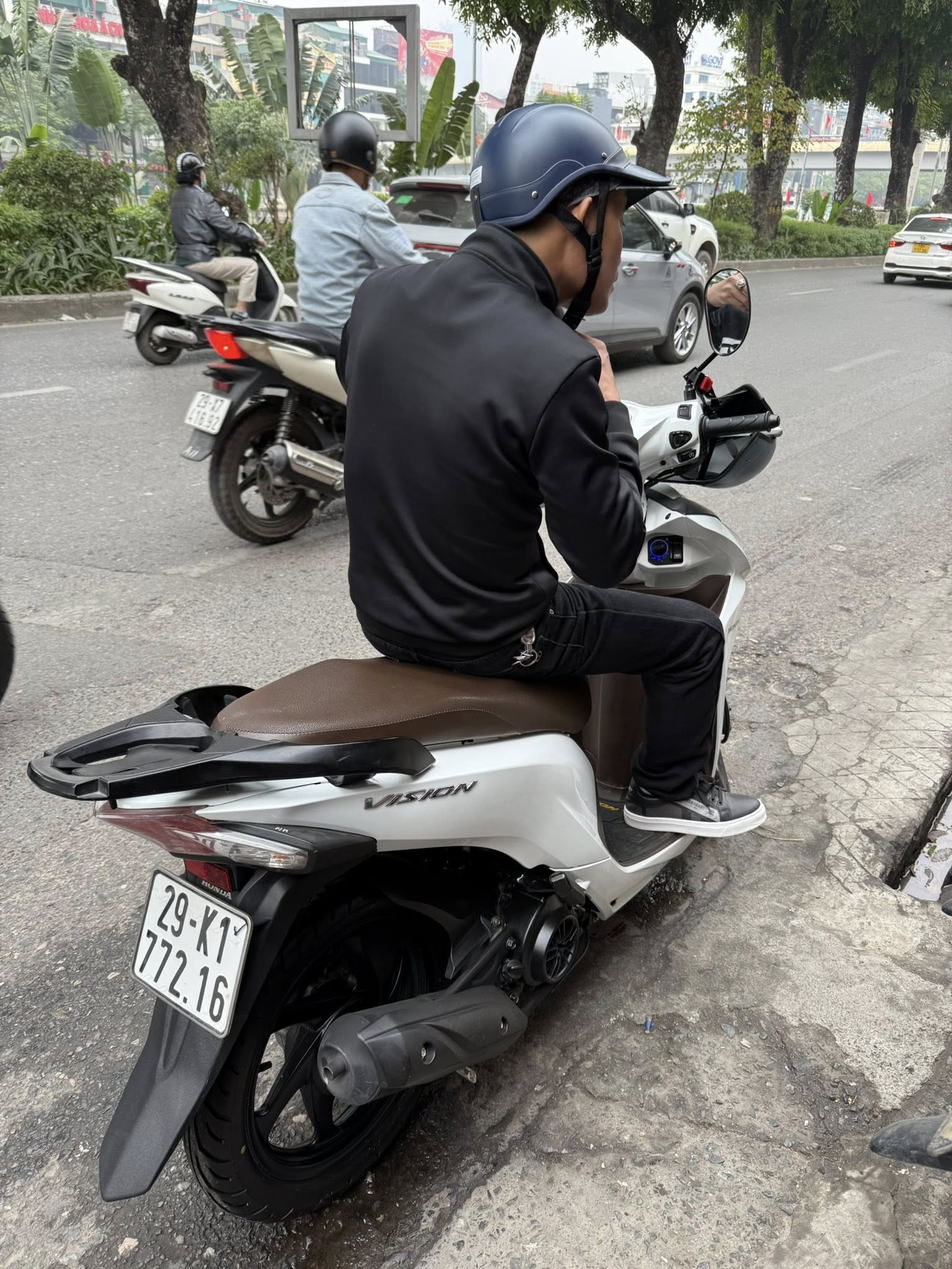bien_so: (117, 865, 268, 1046)
